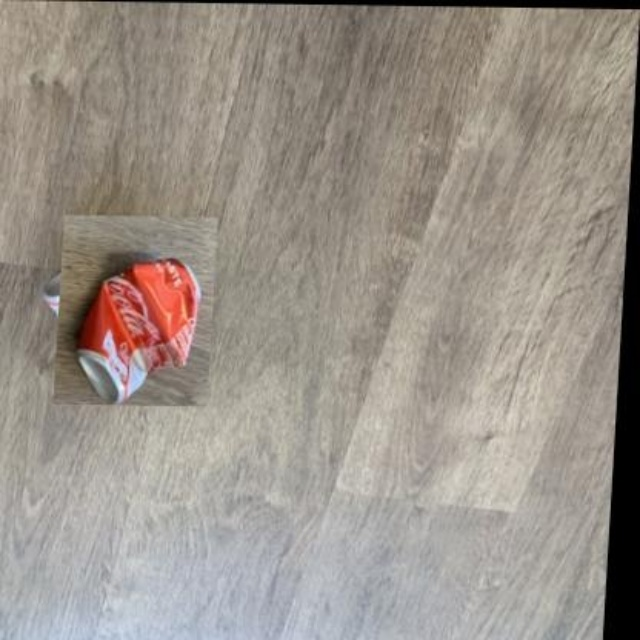trash: (77, 258, 200, 402)
